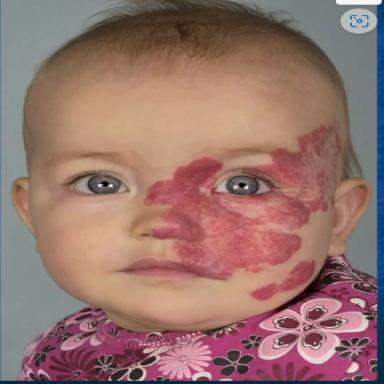Hemangiome: (145, 157, 300, 279), (250, 260, 315, 300)
